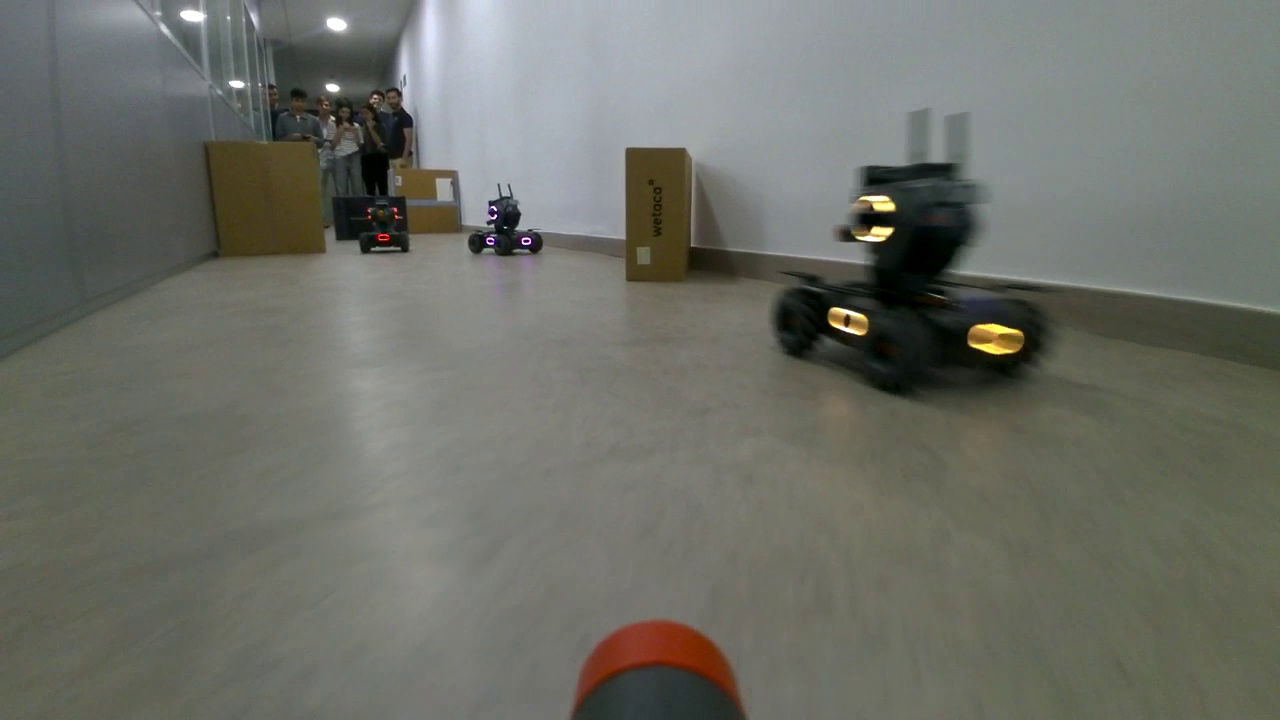robot: (770, 156, 1049, 399), (465, 191, 545, 259), (359, 199, 411, 256)
